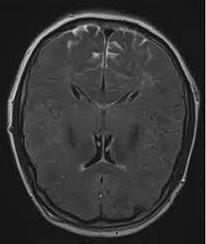Normal_Brain: (9, 7, 206, 243)
